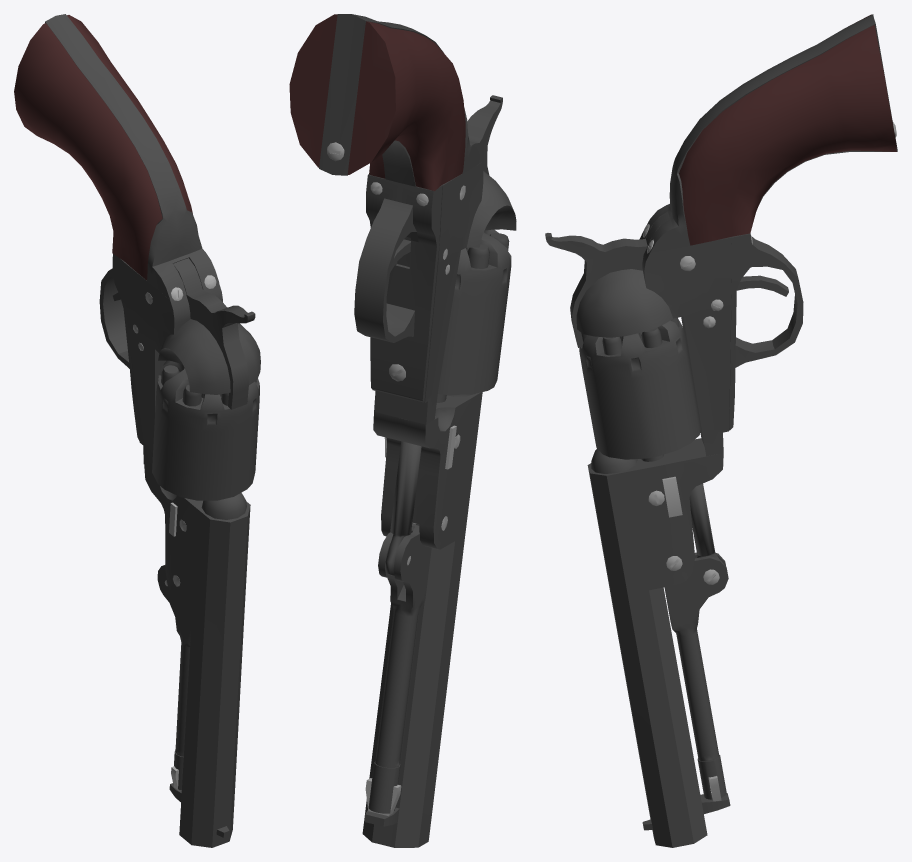
Rendered from Gun03.fbx.
3 views of the same model, side by side, from view 1: azimuth 30°, elevation 25°; view 2: azimuth 150°, elevation 25°; view 3: azimuth 270°, elevation 25° (orthographic). The views are drawn at different scales.
Visible parts, largest first — view 1: Barrel, Grip, Backstrap_Trigger_Guard, Cylinder, Frame, Hammer, Loading_Lever, Screws; view 2: Barrel, Backstrap_Trigger_Guard, Grip, Frame, Cylinder, Loading_Lever, Plunger, Hammer, Screws; view 3: Barrel, Grip, Frame, Cylinder, Backstrap_Trigger_Guard, Loading_Lever, Hammer, Plunger, Screws.
Part boxes in pixels (bbox=[...]): Barrel: bbox=[144, 465, 250, 847]; Grip: bbox=[14, 15, 192, 280]; Backstrap_Trigger_Guard: bbox=[45, 14, 219, 440]; Cylinder: bbox=[152, 360, 259, 500]; Frame: bbox=[123, 261, 260, 470]; Hammer: bbox=[173, 258, 255, 409]; Loading_Lever: bbox=[157, 565, 191, 790]; Screws: bbox=[133, 275, 216, 586]; Barrel: bbox=[362, 392, 482, 847]; Backstrap_Trigger_Guard: bbox=[319, 14, 481, 402]; Grip: bbox=[289, 14, 465, 191]; Frame: bbox=[374, 162, 516, 424]; Cylinder: bbox=[438, 229, 511, 394]; Loading_Lever: bbox=[368, 523, 431, 813]; Plunger: bbox=[385, 441, 421, 576]; Hammer: bbox=[467, 95, 502, 175]; Screws: bbox=[327, 142, 465, 530]; Barrel: bbox=[587, 438, 730, 847]; Grip: bbox=[679, 14, 896, 245]; Frame: bbox=[576, 231, 731, 461]; Cylinder: bbox=[579, 317, 701, 459]; Backstrap_Trigger_Guard: bbox=[645, 14, 897, 430]; Loading_Lever: bbox=[664, 552, 728, 799]; Hammer: bbox=[545, 212, 669, 347]; Plunger: bbox=[689, 483, 719, 558]; Screws: bbox=[643, 121, 896, 570].
Bounding box in the file's own units: 4.6 × 27.34 × 10.98.
